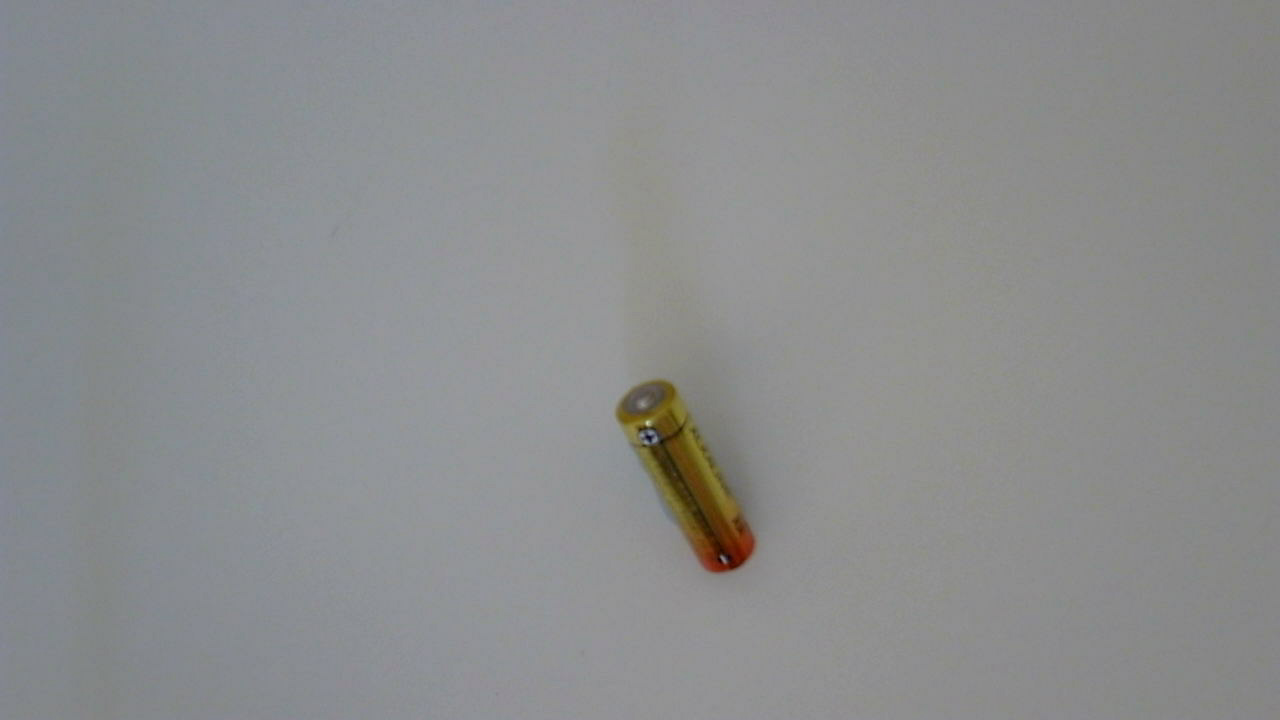Battery: (617, 380, 768, 587)
